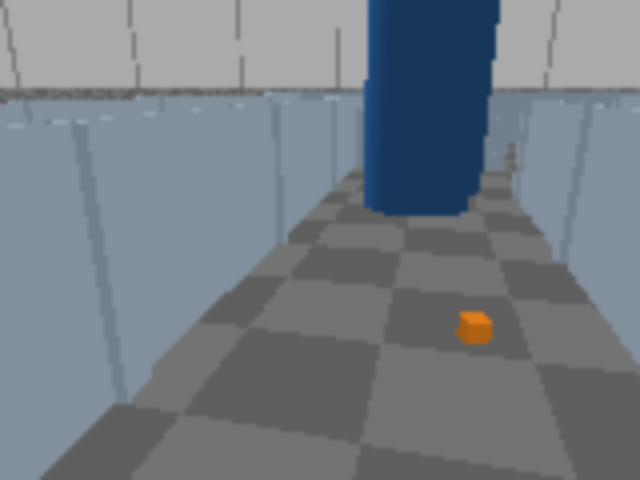puck: (457, 311, 492, 346)
